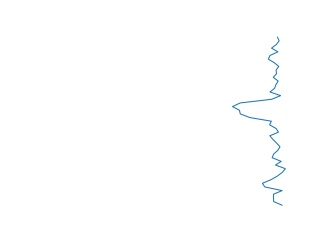interdistributaryEstuary: (229, 37, 294, 206)
